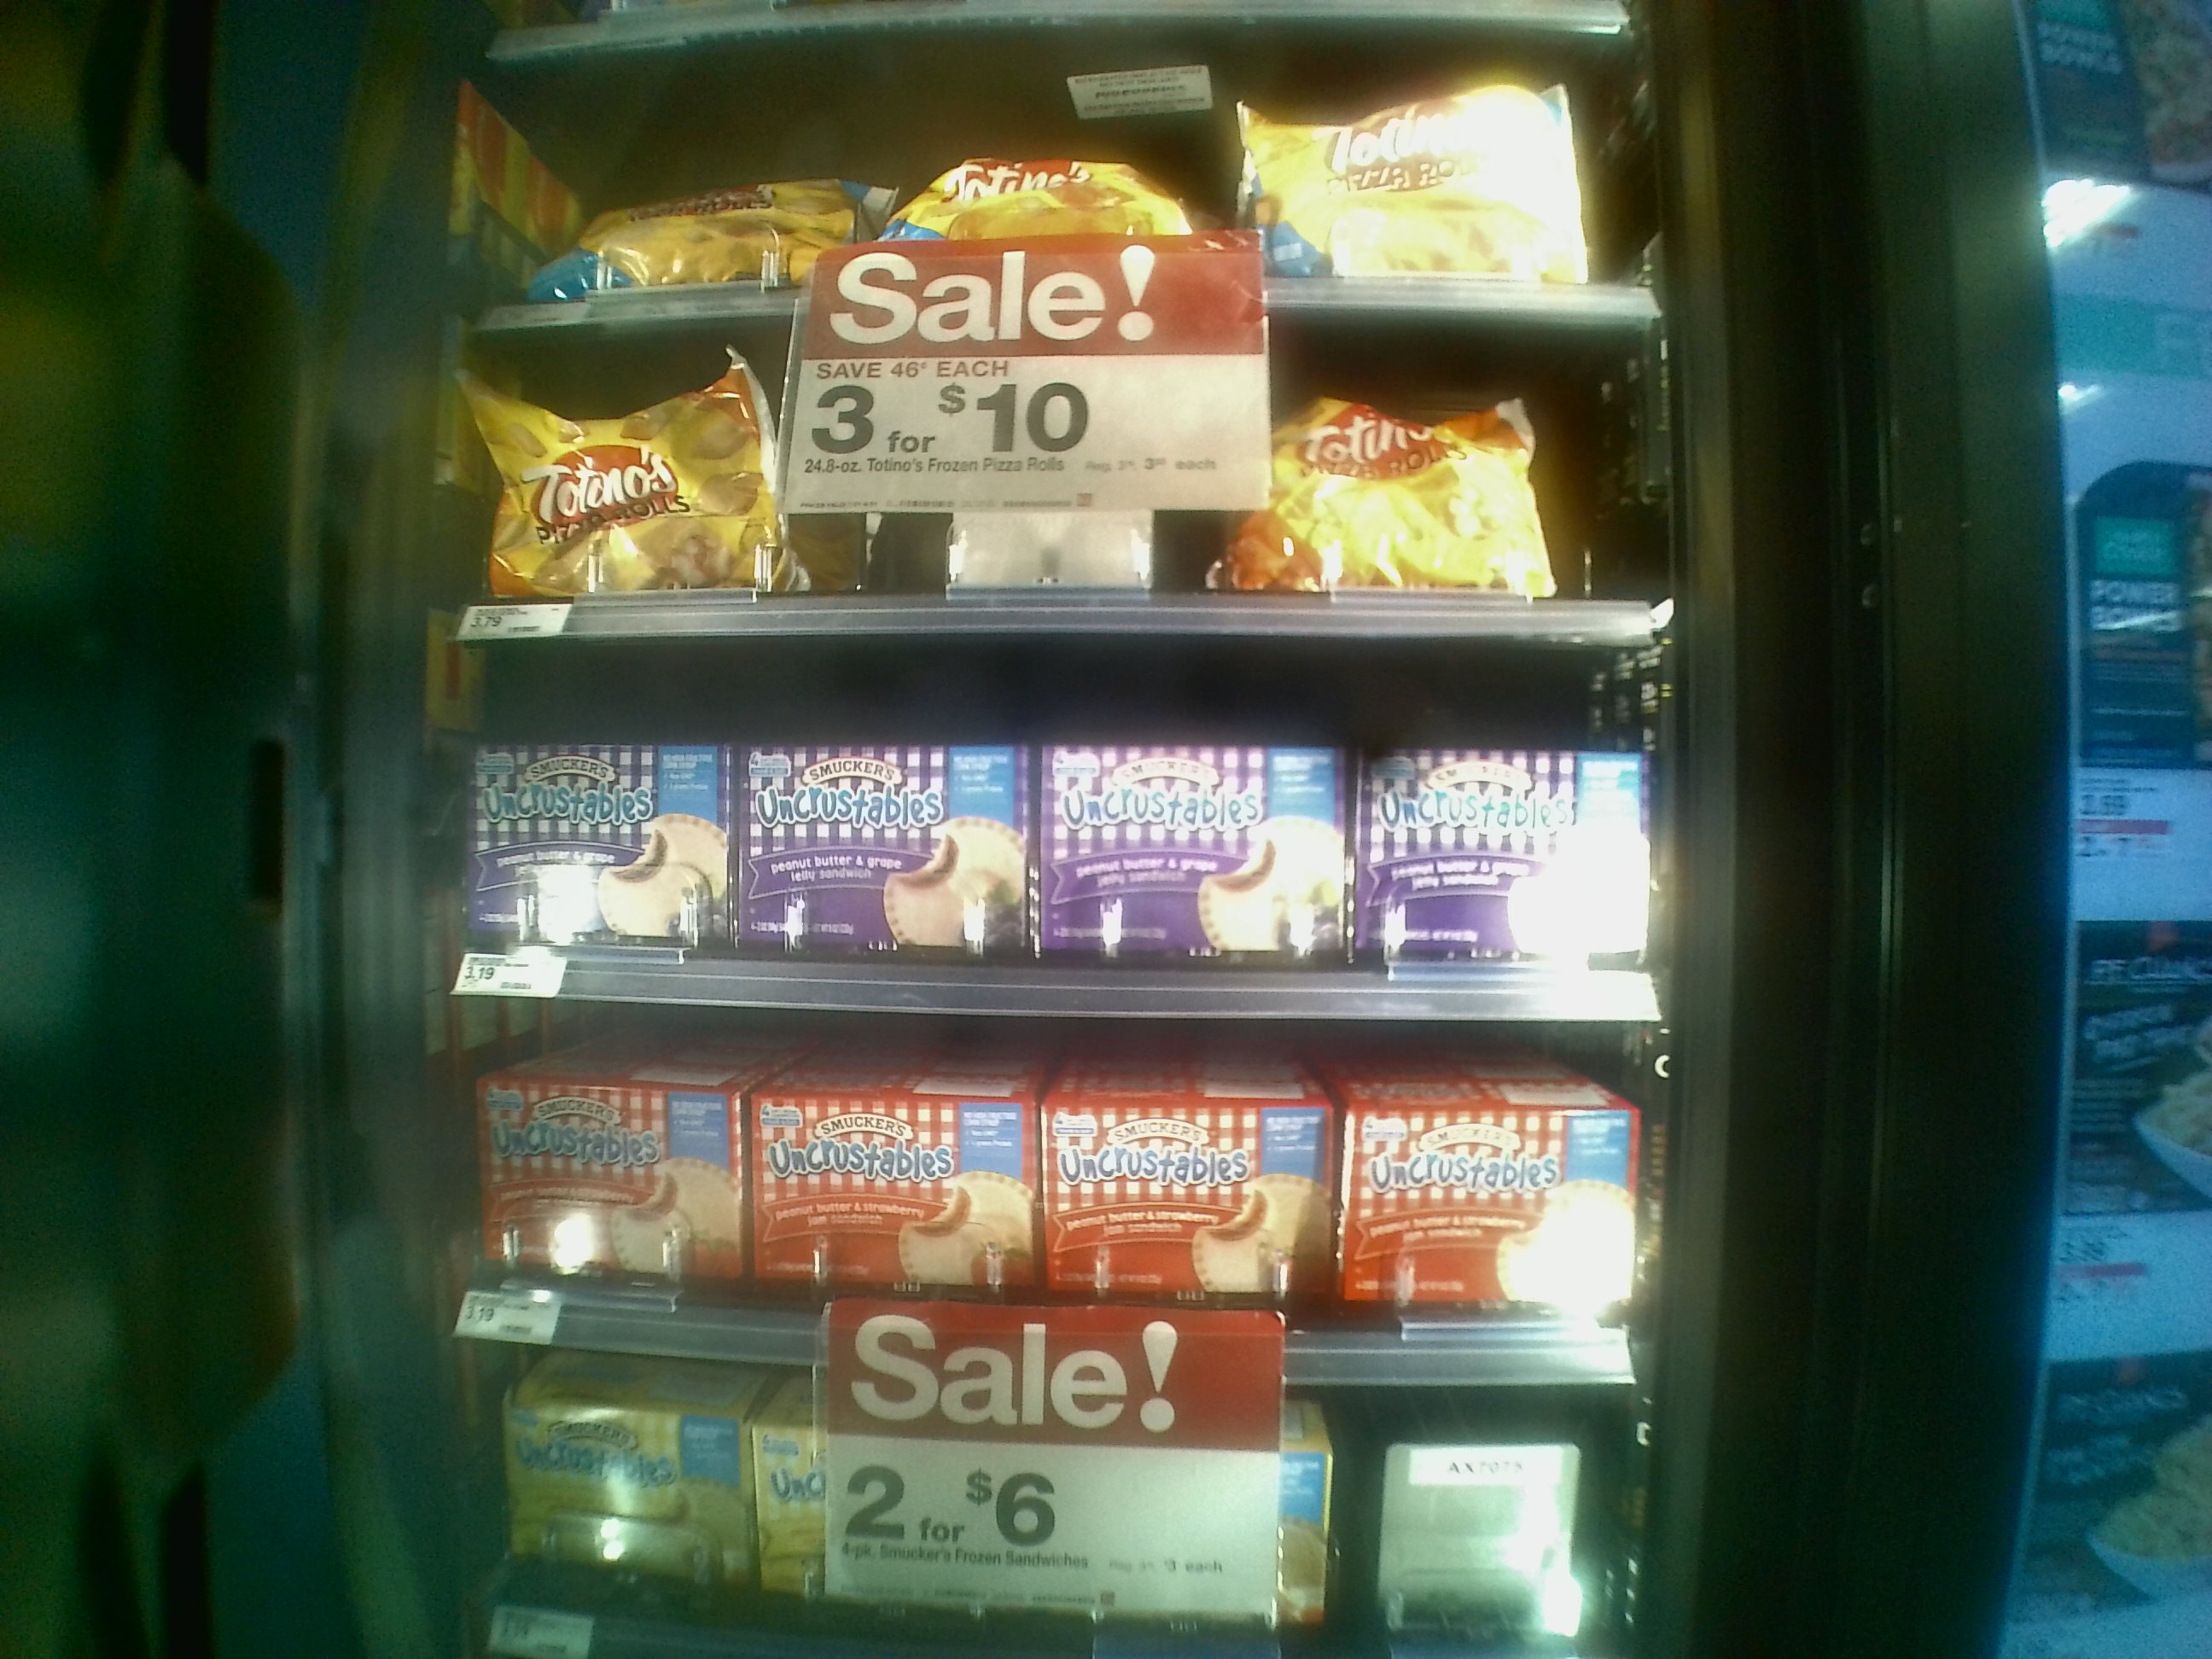shelf: (446, 972, 1641, 1391), (446, 615, 1646, 1014), (467, 319, 1639, 627)
